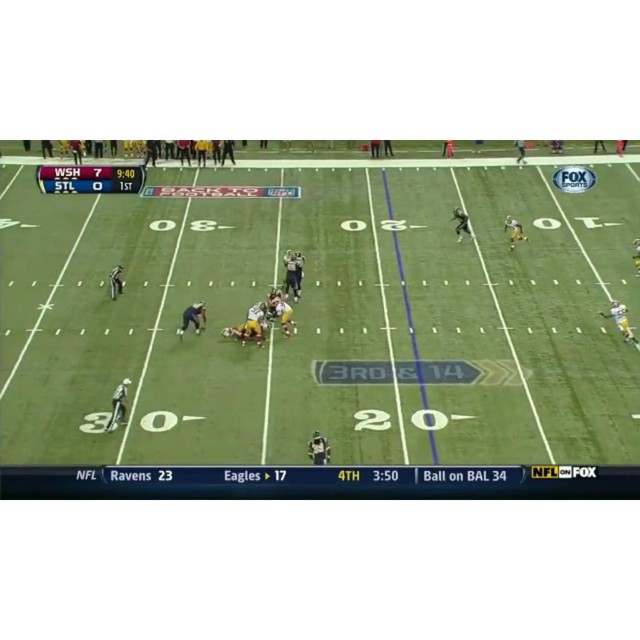american-football-player: (598, 299, 638, 345), (176, 300, 207, 342), (240, 302, 266, 349), (283, 252, 304, 303), (272, 298, 296, 340), (449, 206, 476, 243), (504, 215, 529, 252), (307, 430, 332, 466), (631, 239, 640, 277)
referee: (104, 378, 131, 434), (108, 265, 125, 301)
